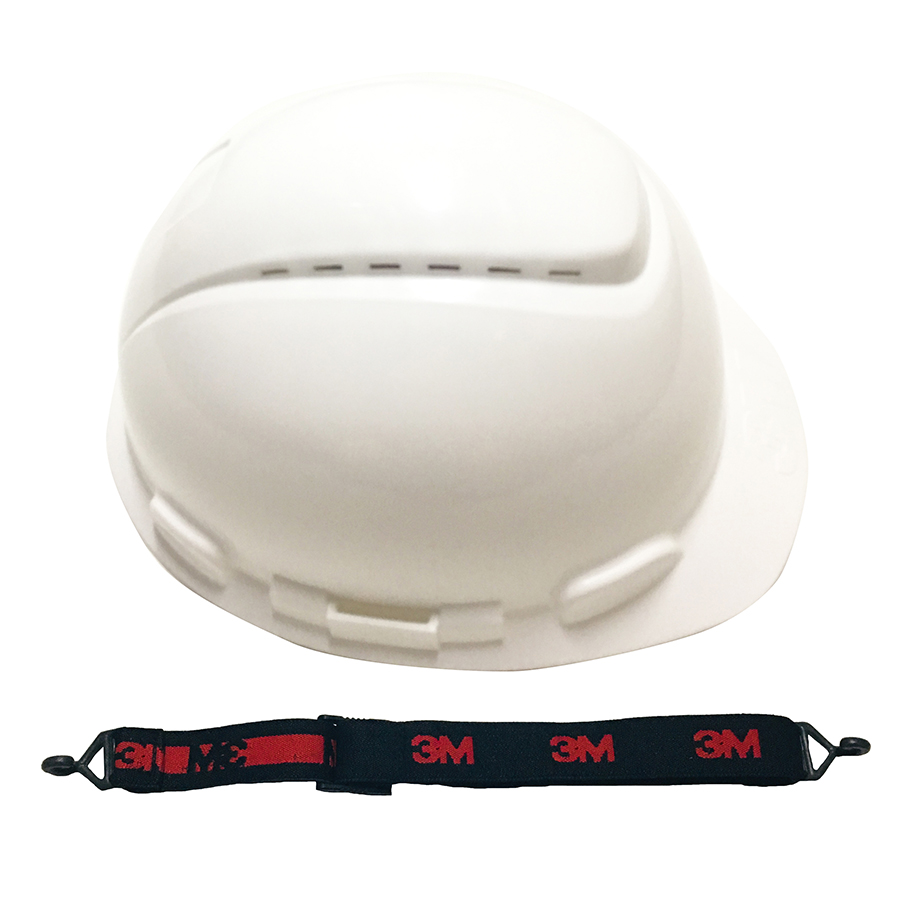3M: (405, 725, 482, 777), (685, 720, 772, 764), (545, 727, 618, 772), (184, 737, 254, 782)
